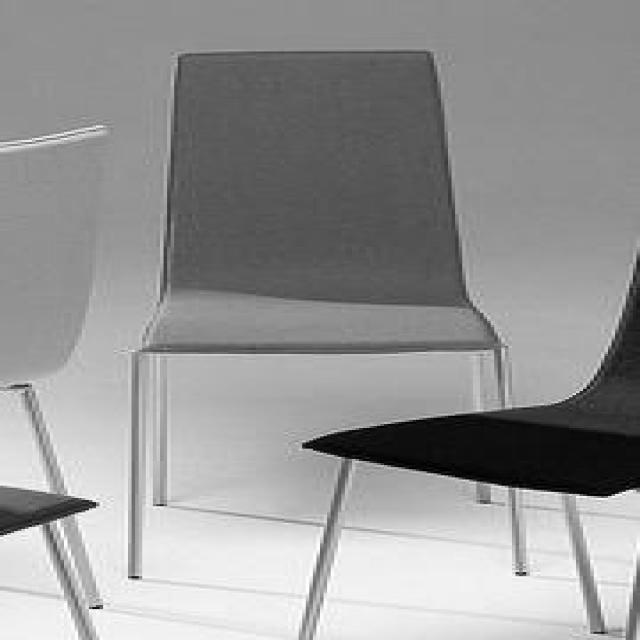chair: (124, 24, 536, 580), (298, 214, 639, 639), (0, 126, 114, 614)
